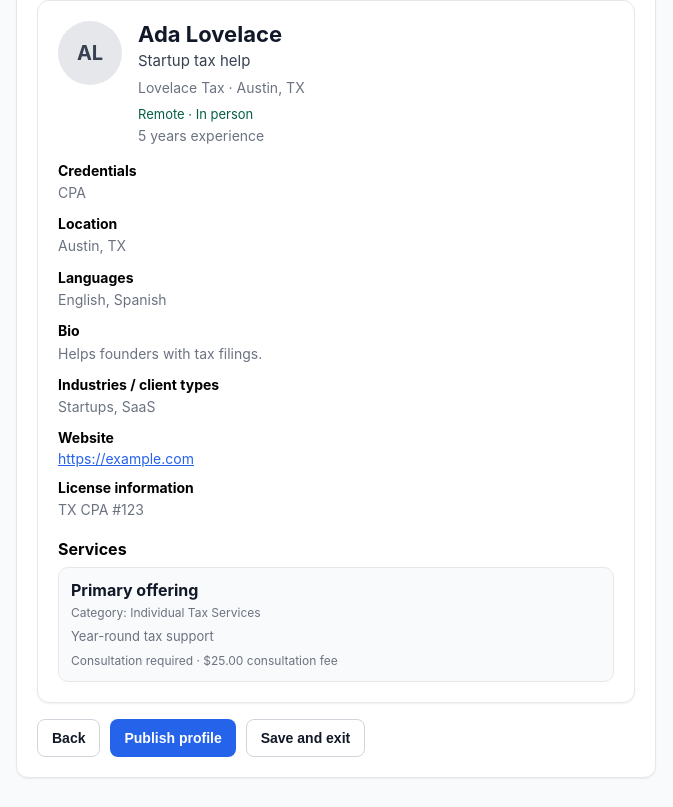
it: Publish success shows live confirmation with View, dashboard, and Edit profile
(page scrolled)
Click the button "Publish profile" at (173, 738), box [110,719,236,757]
(page scrolled)
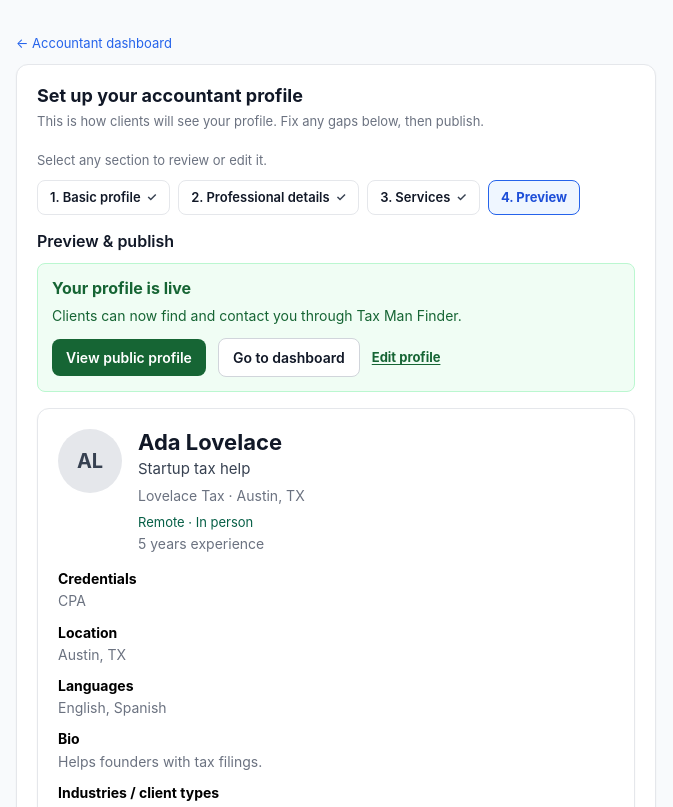
Check: the text "Your profile is live" is shown, box [52,278,191,298]
Check: the button "Publish profile" is gone
Check: the button "Back" is gone
